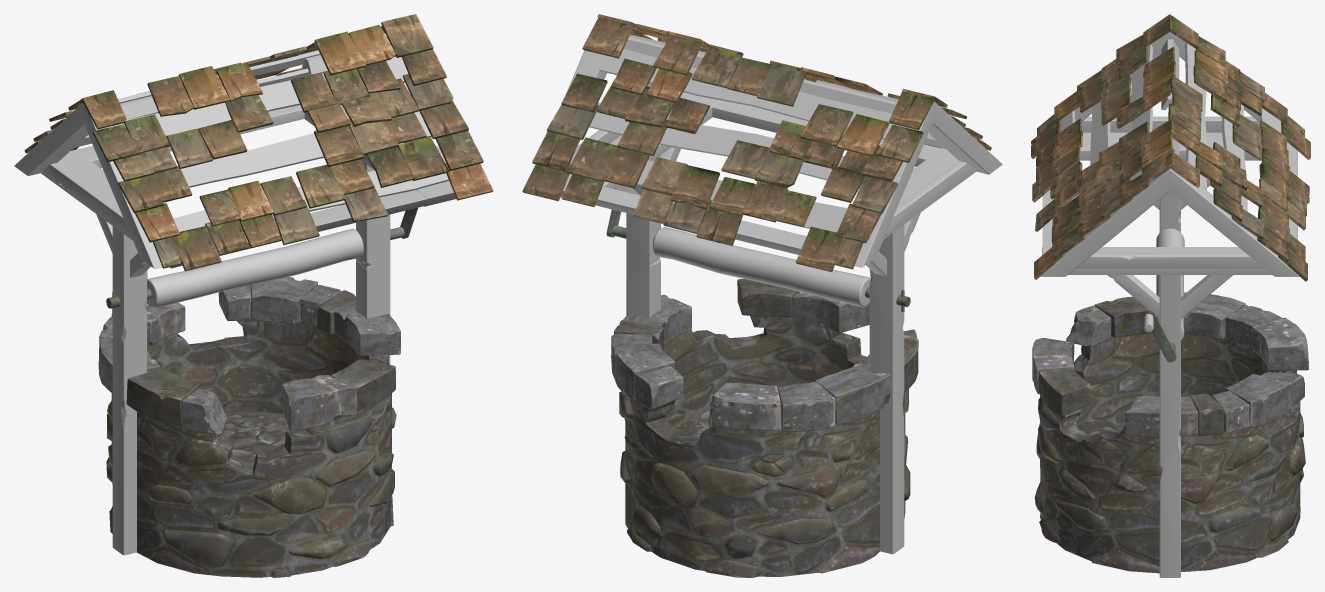
The picture shows the model from 3 angles, left to right: view 1: azimuth 30°, elevation 25°; view 2: azimuth 150°, elevation 25°; view 3: azimuth 270°, elevation 25°; orthographic projection. The views are drawn at different scales.
Parts seen in each view (by area): view 1: SM_Village_Well_v2_LOD0; view 2: SM_Village_Well_v2_LOD0; view 3: SM_Village_Well_v2_LOD0.
Boxes of the visible parts, left/top/right/bottom form: SM_Village_Well_v2_LOD0: left=14, top=14, right=493, bottom=577; SM_Village_Well_v2_LOD0: left=522, top=14, right=1002, bottom=577; SM_Village_Well_v2_LOD0: left=1031, top=14, right=1310, bottom=577.
Bounding box in the file's own units: 2.29 × 2.86 × 1.69.
